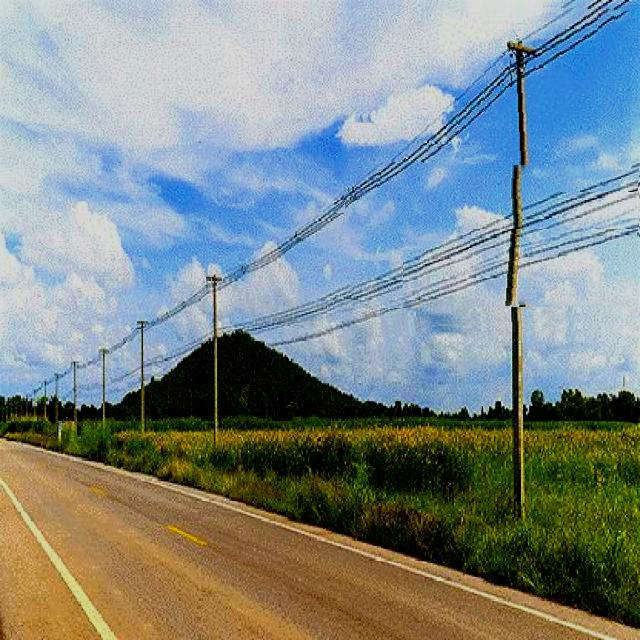pole: (510, 36, 527, 351)
wire: (335, 9, 631, 219), (334, 8, 614, 212), (365, 7, 598, 188), (355, 167, 639, 287), (349, 184, 640, 300), (351, 192, 639, 308), (327, 233, 615, 333), (403, 229, 629, 308)
